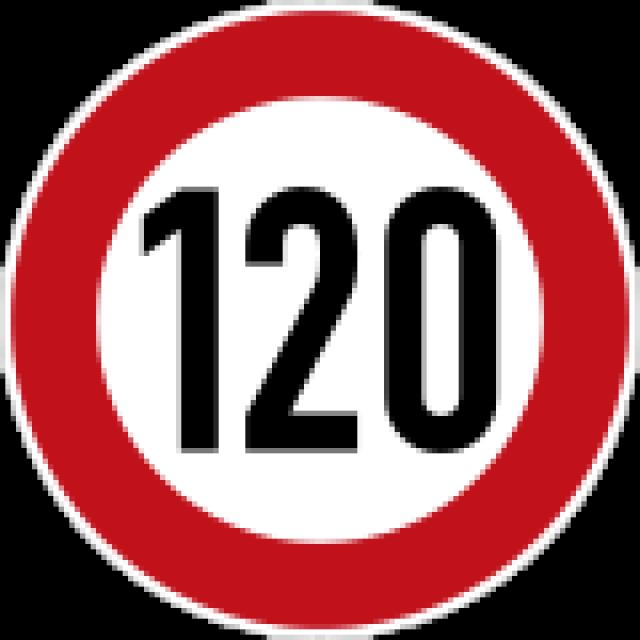Speed Limit -120-: (120, 175, 526, 461)
